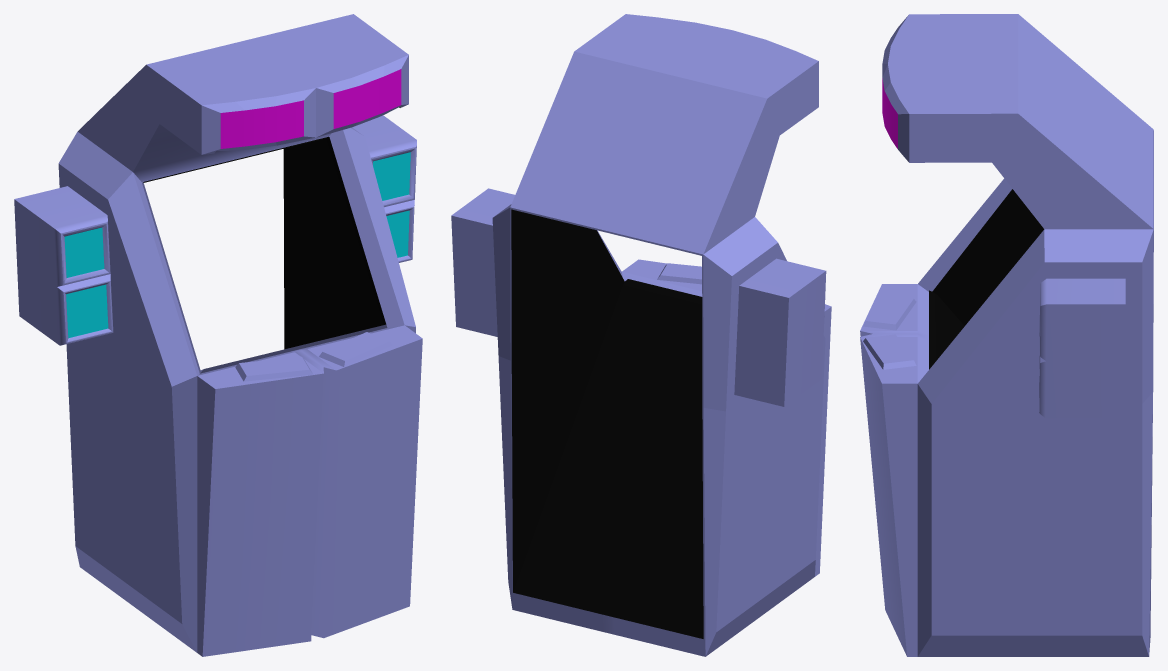
The model's file is arcade_openscreen.fbx.
3 views of the same model, side by side, from view 1: azimuth 30°, elevation 25°; view 2: azimuth 150°, elevation 25°; view 3: azimuth 270°, elevation 25° (orthographic). The views are drawn at different scales.
Parts seen in each view (by area): view 1: arcade_openscreen; view 2: arcade_openscreen; view 3: arcade_openscreen.
Part boxes in pixels (bbox=[...]): arcade_openscreen: bbox=[14, 14, 422, 656]; arcade_openscreen: bbox=[451, 14, 831, 656]; arcade_openscreen: bbox=[860, 14, 1153, 656].
Size of the model in its own units: 9.51 by 13.81 by 6.77.
